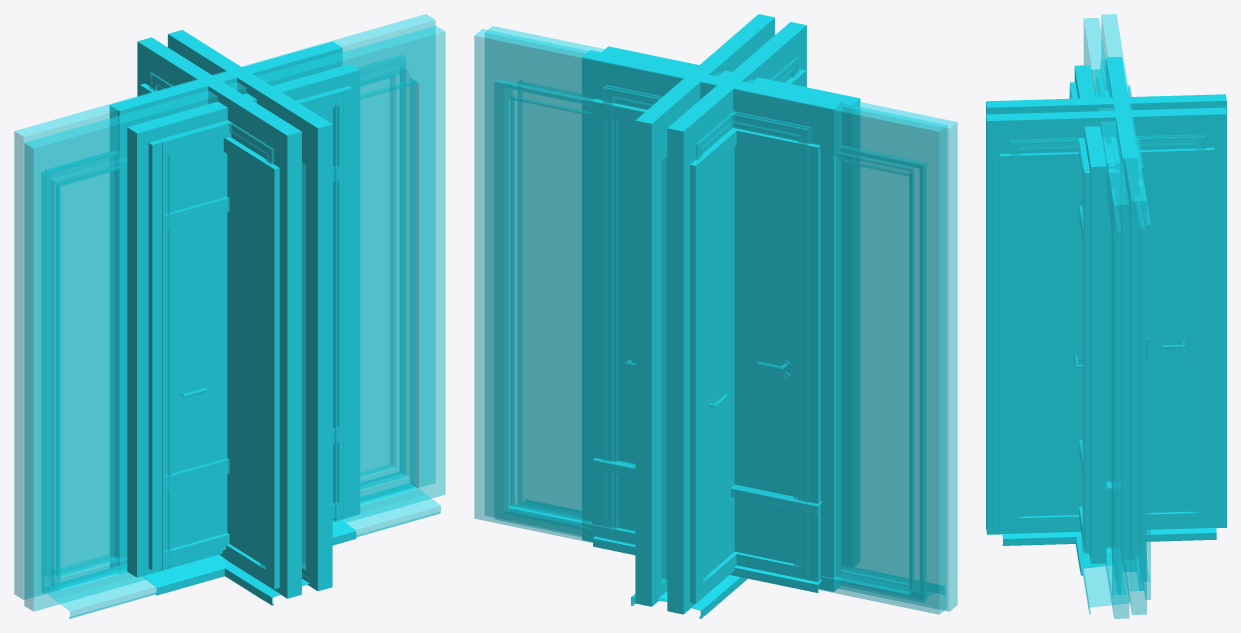
File: Level_02_openings.glb
3 renders of one model, left to right at view 1: azimuth 30°, elevation 25°; view 2: azimuth 150°, elevation 25°; view 3: azimuth 270°, elevation 25°, orthographic. The views are drawn at different scales.
Visible parts, largest first — view 1: world; view 2: world; view 3: world.
Boxes of the visible parts, left/top/right/bottom form: world: left=14, top=14, right=445, bottom=618; world: left=474, top=14, right=957, bottom=618; world: left=986, top=14, right=1226, bottom=618.
Bounding box in the file's own units: 2.4 × 2.52 × 1.3.
